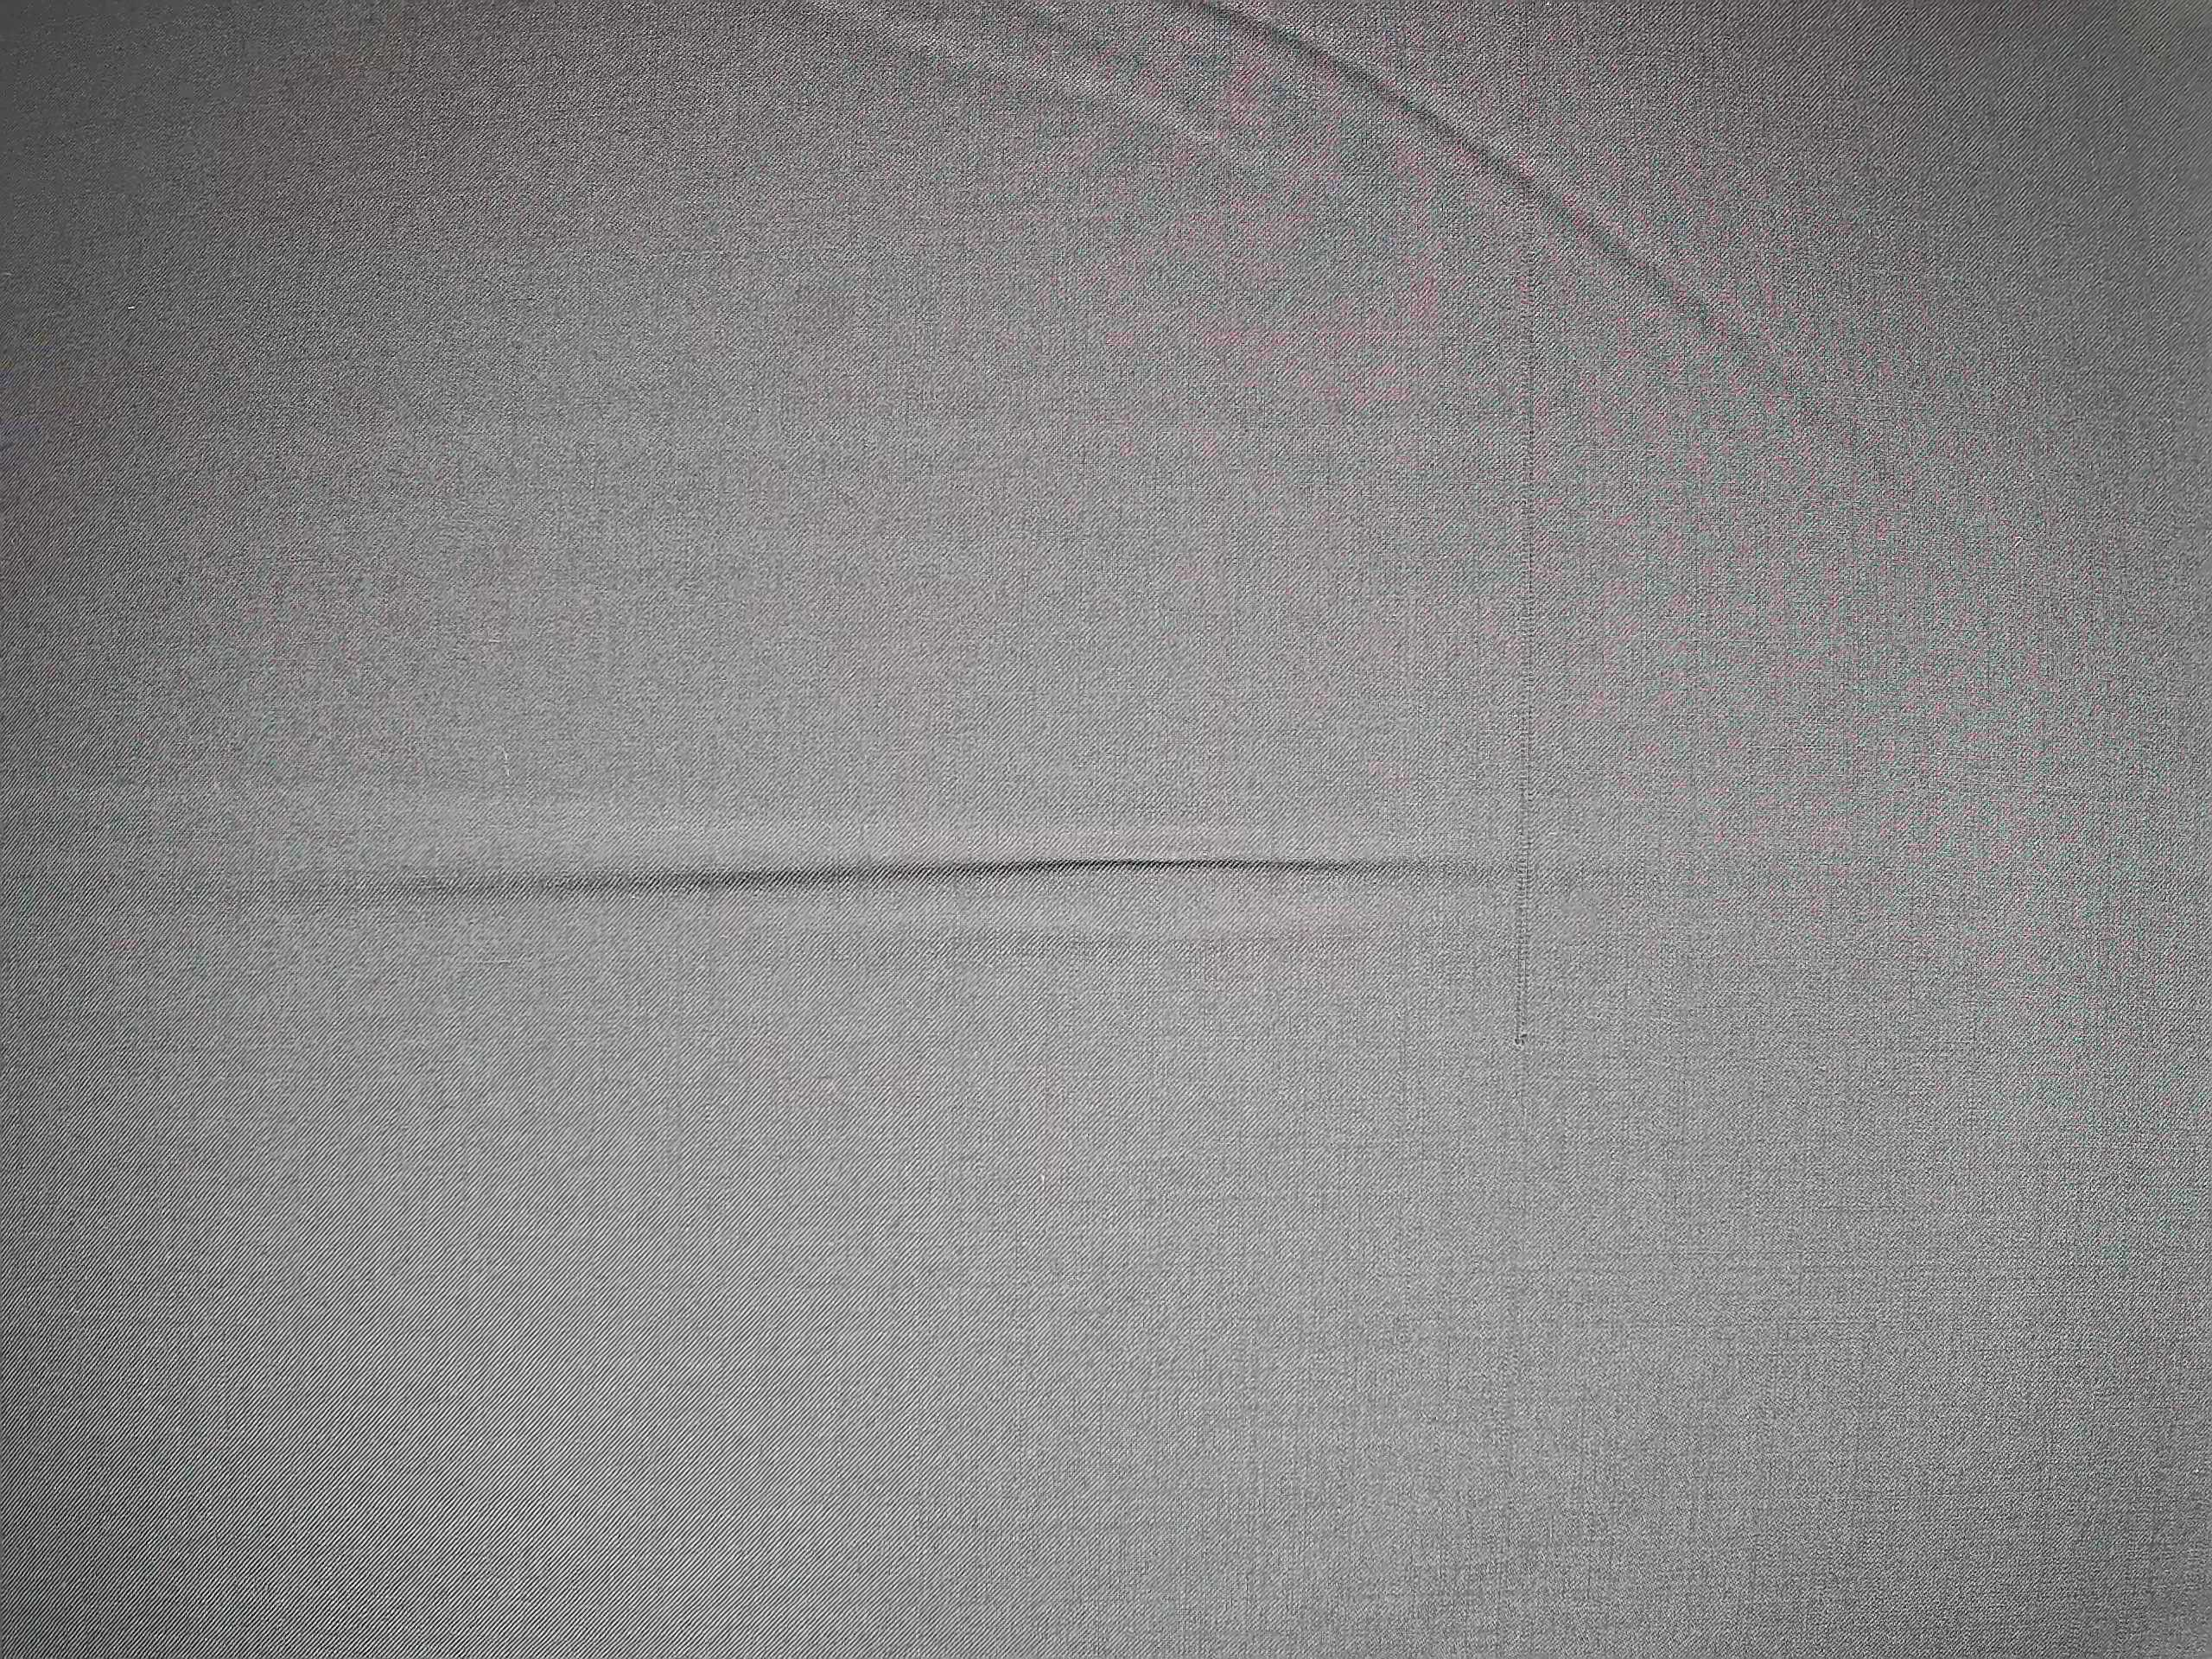hanging-warp: (1505, 10, 1554, 1127)
